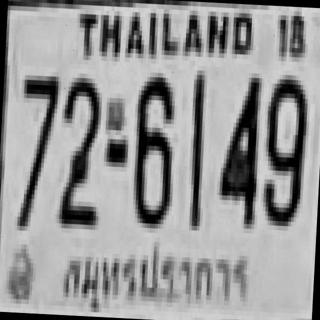N01: (185, 70, 206, 226)
N02: (56, 73, 101, 225)
N04: (215, 72, 260, 224)
N06: (130, 72, 175, 224)
N07: (13, 70, 58, 228)
N09: (260, 74, 306, 222)
P57: (56, 236, 256, 320)
